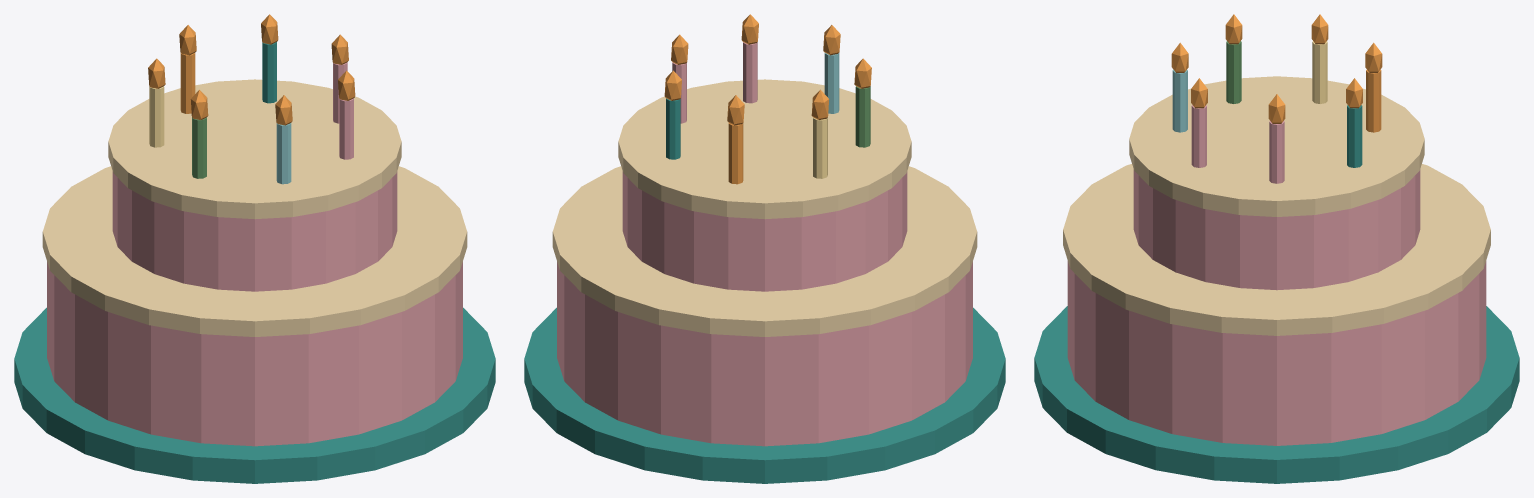
Rendered from cake_giant.glb.
3 views of the same model, side by side, from view 1: azimuth 30°, elevation 25°; view 2: azimuth 150°, elevation 25°; view 3: azimuth 270°, elevation 25° (orthographic).
Parts seen in each view (by area): view 1: cake, icing, icing.001, plate, cake.001, candle.003, candle.005, candle.001, candle.004, candle.006, candle.002; view 2: cake, icing, icing.001, plate, cake.001, candle.004, candle.002, candle.001, candle.003, candle.006, candle.005; view 3: cake, icing, icing.001, plate, cake.001, candle.003, candle.004, candle.001, candle.006, candle, candle.002, candle.005.
Part boxes in pixels (x1,y1,x2,y2): cake: [47, 262, 462, 446]; icing: [42, 166, 467, 336]; icing.001: [108, 79, 401, 219]; plate: [14, 307, 495, 483]; cake.001: [112, 171, 397, 291]; candle.003: [149, 86, 164, 147]; candle.005: [276, 123, 291, 184]; candle.001: [262, 42, 276, 103]; candle.004: [192, 117, 206, 178]; candle.006: [339, 98, 353, 159]; candle.002: [180, 53, 195, 113]; cake: [557, 262, 972, 446]; icing: [552, 166, 977, 336]; icing.001: [618, 79, 911, 219]; plate: [524, 307, 1005, 483]; cake.001: [622, 171, 907, 291]; candle.004: [855, 86, 870, 147]; candle.002: [728, 123, 743, 184]; candle.001: [666, 98, 680, 159]; candle.003: [813, 117, 827, 178]; candle.006: [743, 42, 757, 103]; candle.005: [824, 53, 839, 113]; cake: [1067, 261, 1486, 445]; icing: [1063, 164, 1490, 335]; icing.001: [1129, 76, 1424, 216]; plate: [1034, 306, 1519, 483]; cake.001: [1133, 169, 1420, 290]; candle.003: [1312, 41, 1327, 103]; candle.004: [1226, 41, 1241, 103]; candle.001: [1347, 105, 1362, 167]; candle.006: [1191, 105, 1206, 167]; candle: [1269, 121, 1284, 183]; candle.002: [1366, 69, 1381, 132]; candle.005: [1172, 69, 1187, 132].
Bounding box in the file's own units: 2.2 × 1.65 × 2.2.
